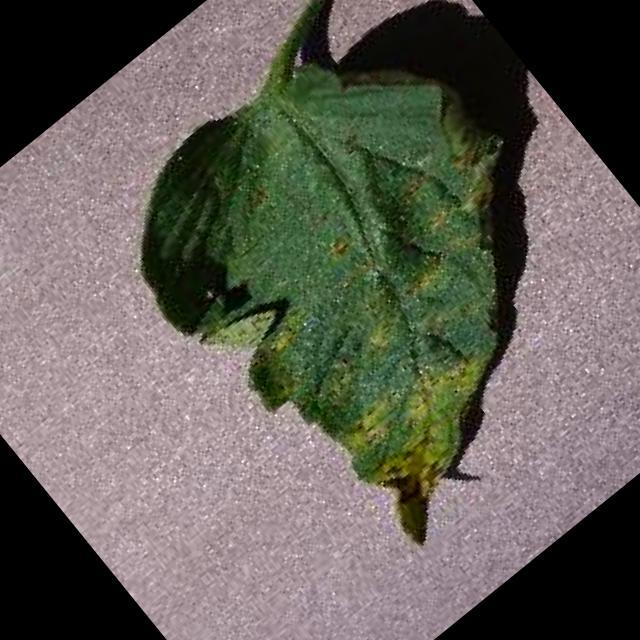Tomato Septoria spot leaf: (83, 0, 640, 579)
